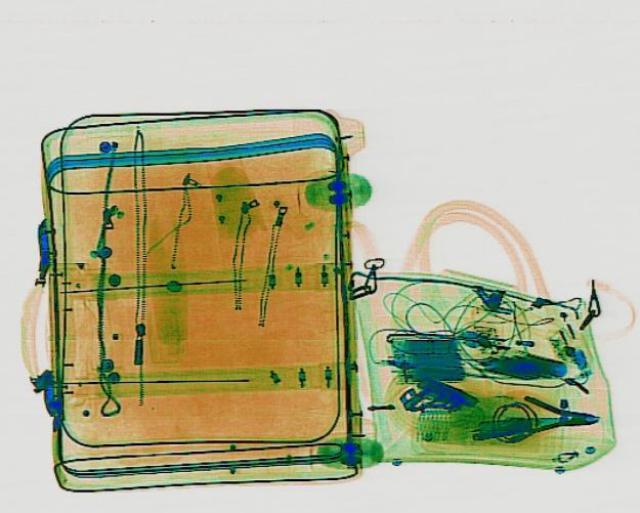Pliers: (519, 392, 597, 434)
